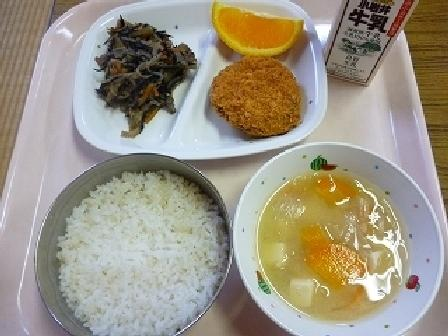Citrus: (207, 3, 313, 58)
Milk: (315, 0, 420, 82)
Rice: (35, 165, 227, 333)
Soups: (233, 154, 443, 335)
cutlet: (206, 59, 308, 139)
salad with sauce: (79, 13, 195, 129)
